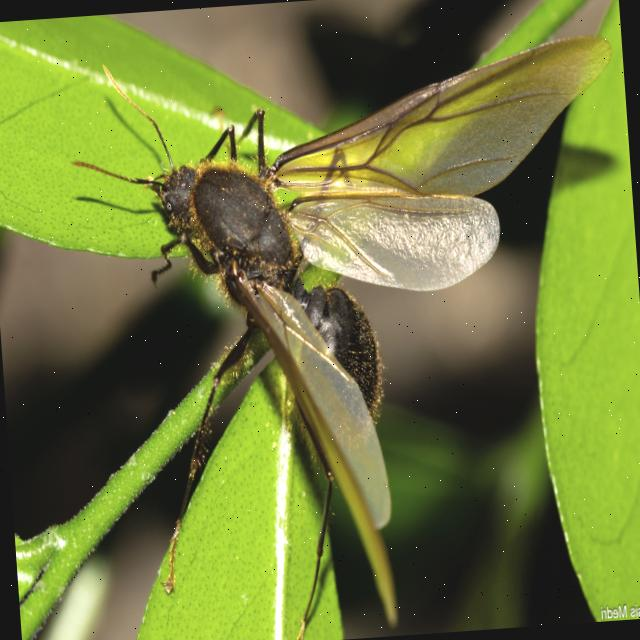Alive-Male-Alate: (62, 30, 640, 640)
